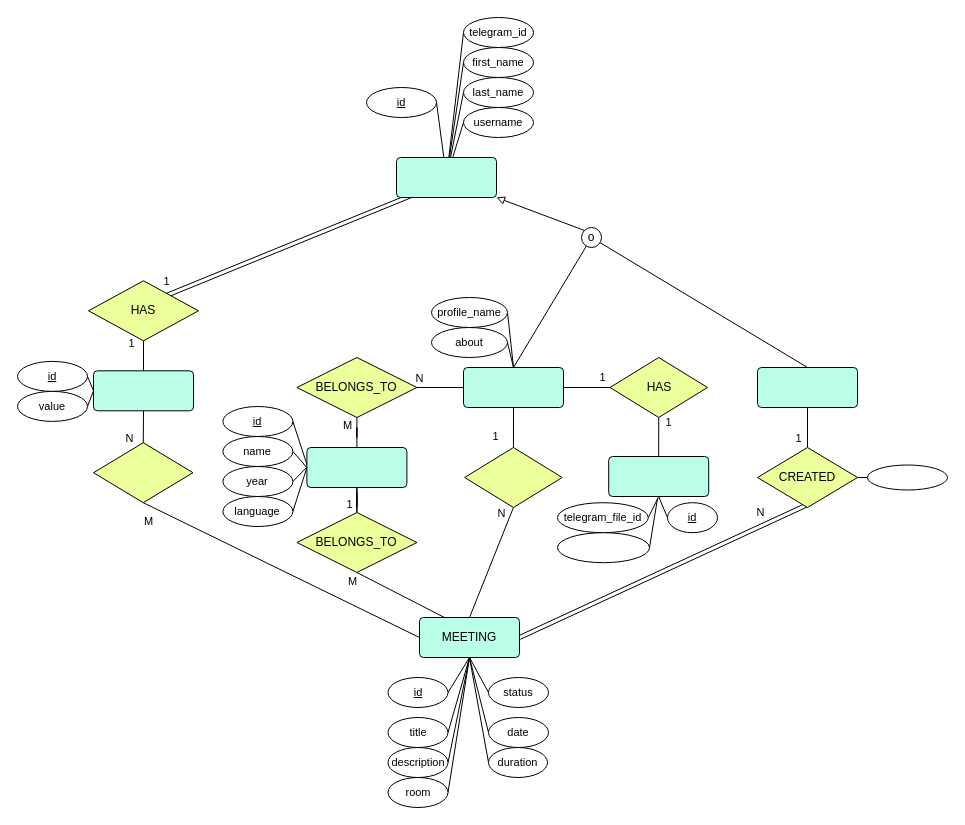
Image size: 965x825. Some labels were removed from this diagram. The shapes that lost their labels are listed below. From the top down, each one's box as (x1, y1, x2, y2) in pixels, then its label:
(396, 156, 496, 198): STUDENT
(92, 370, 194, 411): EMAIL
(462, 366, 564, 408): TUTOR
(756, 366, 858, 408): ADMIN
(92, 442, 193, 503): ATTENDED
(306, 446, 407, 488): DISCIPLINE
(464, 446, 562, 508): CONDUCTS
(608, 456, 709, 496): PHOTO
(866, 464, 948, 490): creation_date
(556, 532, 650, 563): file_path
